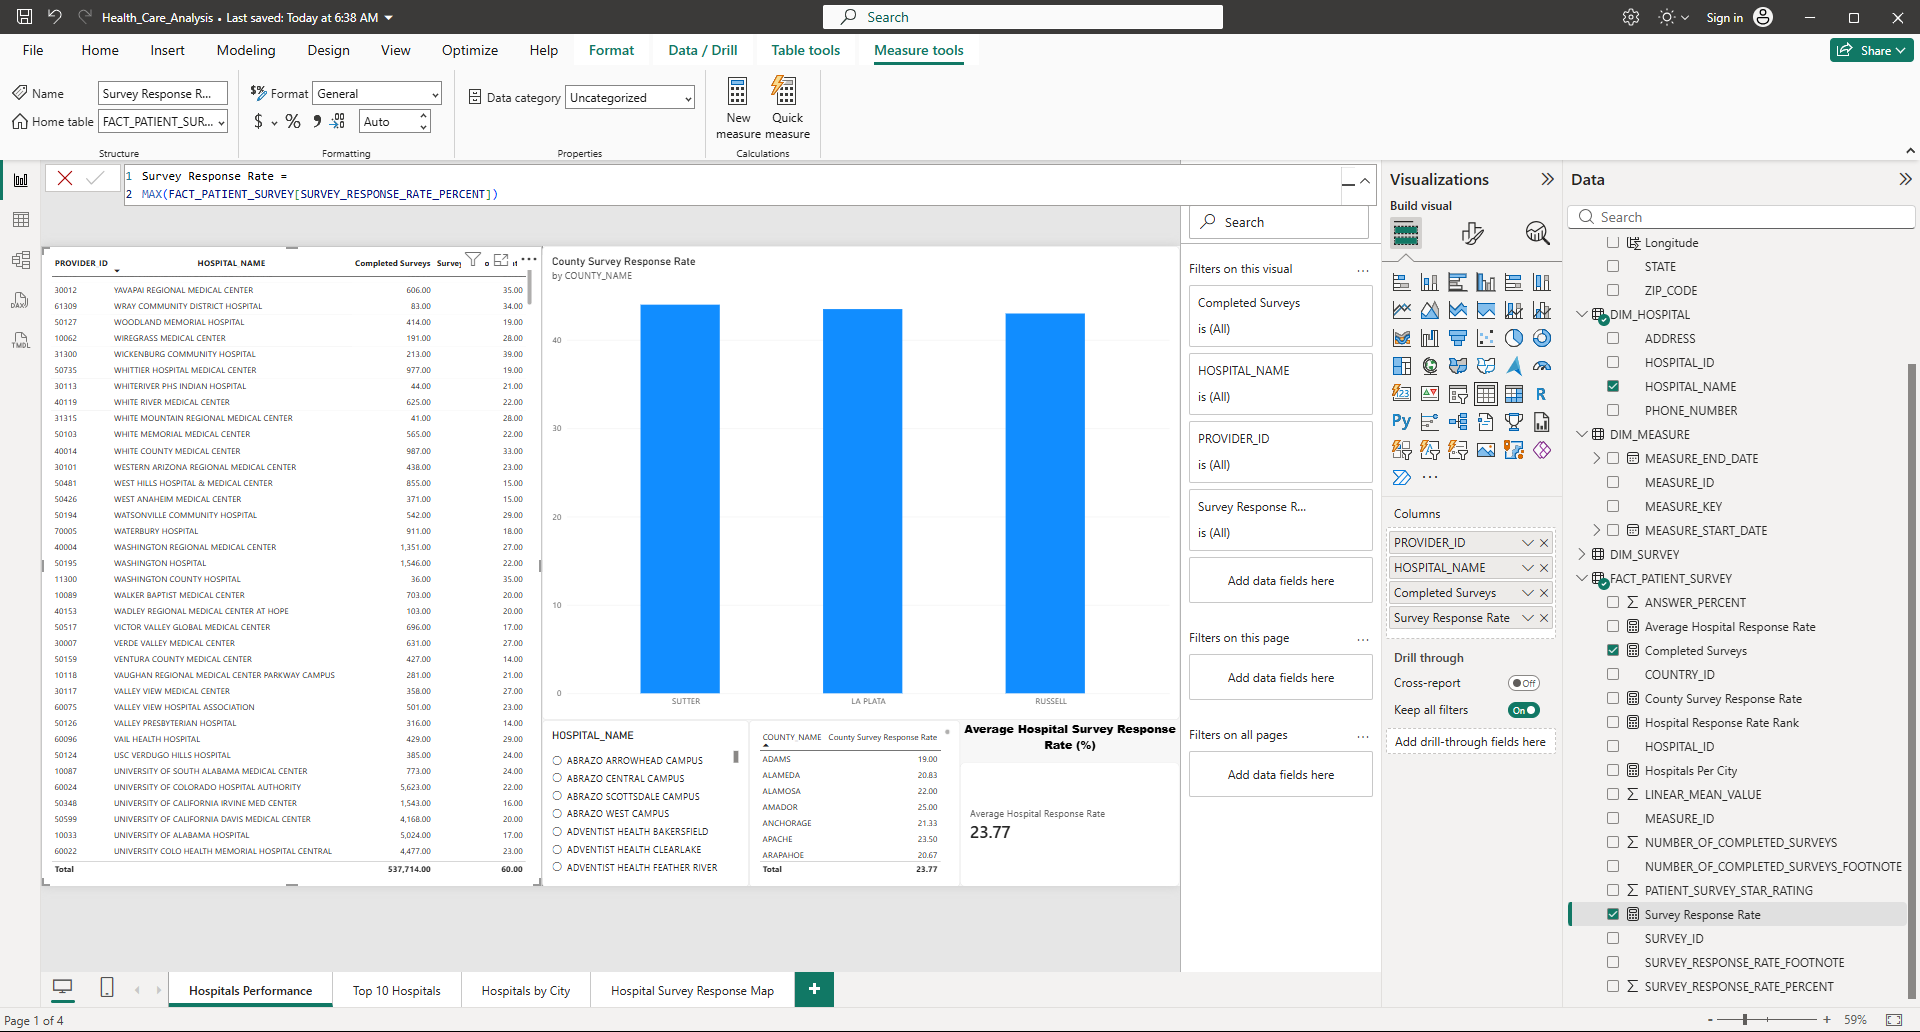

The page's visual inventory and layout, read from the dashboard file:
{"tool":"powerbi","page":{"name":"Hospitals Performance","canvas":[1920,1080],"ordinal":0},"visuals":[{"type":"tableEx","fields":{"Values":["DIM_HOSPITAL.PROVIDER_ID","DIM_HOSPITAL.HOSPITAL_NAME","FACT_PATIENT_SURVEY.Completed Surveys","FACT_PATIENT_SURVEY.Survey Response Rate"]},"box":[0,0,844.5,1080.5],"z":0},{"type":"clusteredColumnChart","fields":{"Category":["DIM_COUNTRY.COUNTY_NAME"],"Y":["FACT_PATIENT_SURVEY.County Survey Response Rate"]},"box":[844.5,0,1075.5,799],"z":1000},{"type":"listSlicer","fields":{"Values":["DIM_HOSPITAL.HOSPITAL_NAME"]},"box":[844.5,799,348.9,281.5],"z":2000},{"type":"tableEx","fields":{"Values":["DIM_COUNTRY.COUNTY_NAME","FACT_PATIENT_SURVEY.County Survey Response Rate"]},"box":[1193.5,799,355.7,281.5],"z":3000},{"type":"cardVisual","title":"Average Hospital Survey Response Rate (%)","fields":{"Data":["FACT_PATIENT_SURVEY.Average Hospital Response Rate"]},"box":[1549.1,800.7,370.9,279.8],"z":3001}]}

Visuals, with their boxes on the page's 1920x1080 design canvas (x1, y1, x2, y2). These are canvas units, not pixel positions in the 1920x1032 screenshot, which may show the page scaled, cropped or inside an application window:
tableEx - DIM_HOSPITAL.PROVIDER_ID x DIM_HOSPITAL.HOSPITAL_NAME: (left=0, top=0, right=844, bottom=1080)
clusteredColumnChart - DIM_COUNTRY.COUNTY_NAME x FACT_PATIENT_SURVEY.County Survey Response Rate: (left=844, top=0, right=1920, bottom=799)
listSlicer - DIM_HOSPITAL.HOSPITAL_NAME: (left=844, top=799, right=1193, bottom=1080)
tableEx - DIM_COUNTRY.COUNTY_NAME x FACT_PATIENT_SURVEY.County Survey Response Rate: (left=1194, top=799, right=1549, bottom=1080)
"Average Hospital Survey Response Rate (%)" cardVisual: (left=1549, top=801, right=1920, bottom=1080)
